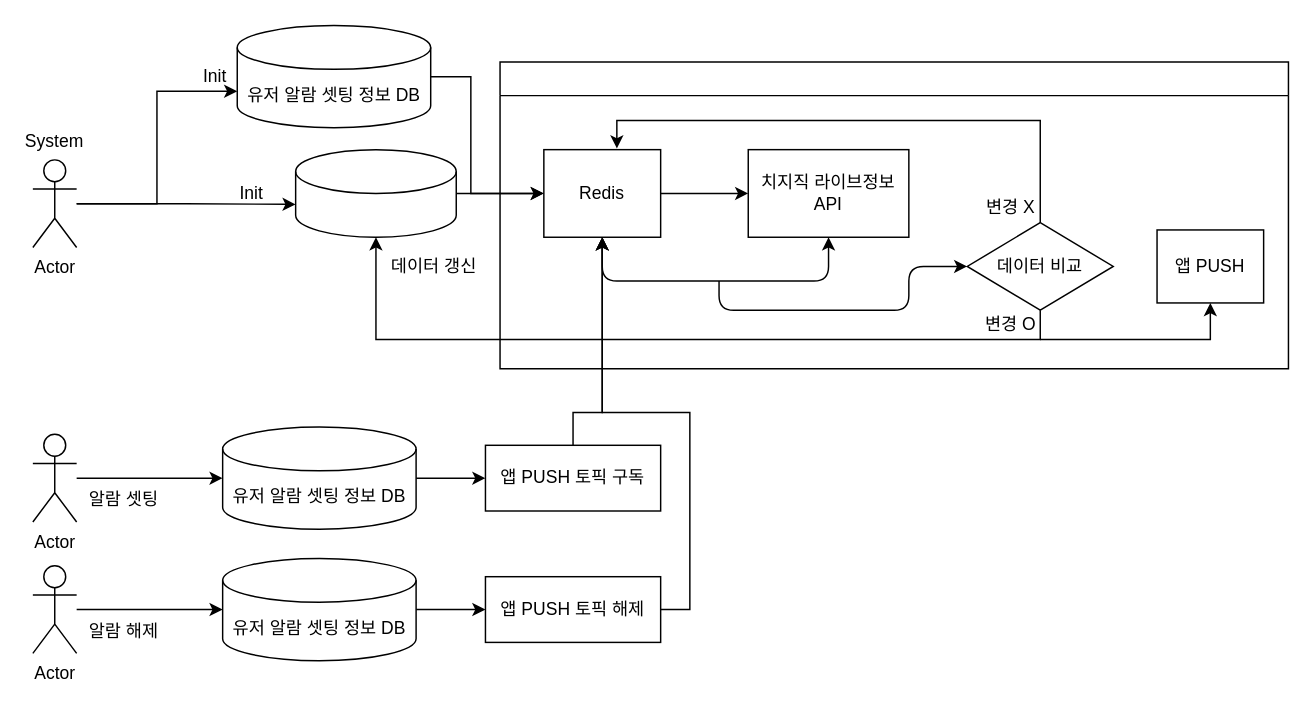
The diagram is 1314 pixels wide and 710 high, and some of its shapes have lost their labels. Here are the shapes that lost their labels. From the top down, the centre of each, then its label:
At [375,192]: "Live 방송정보 DB".
At [893,215]: "비동기 쓰레드 spawn".
